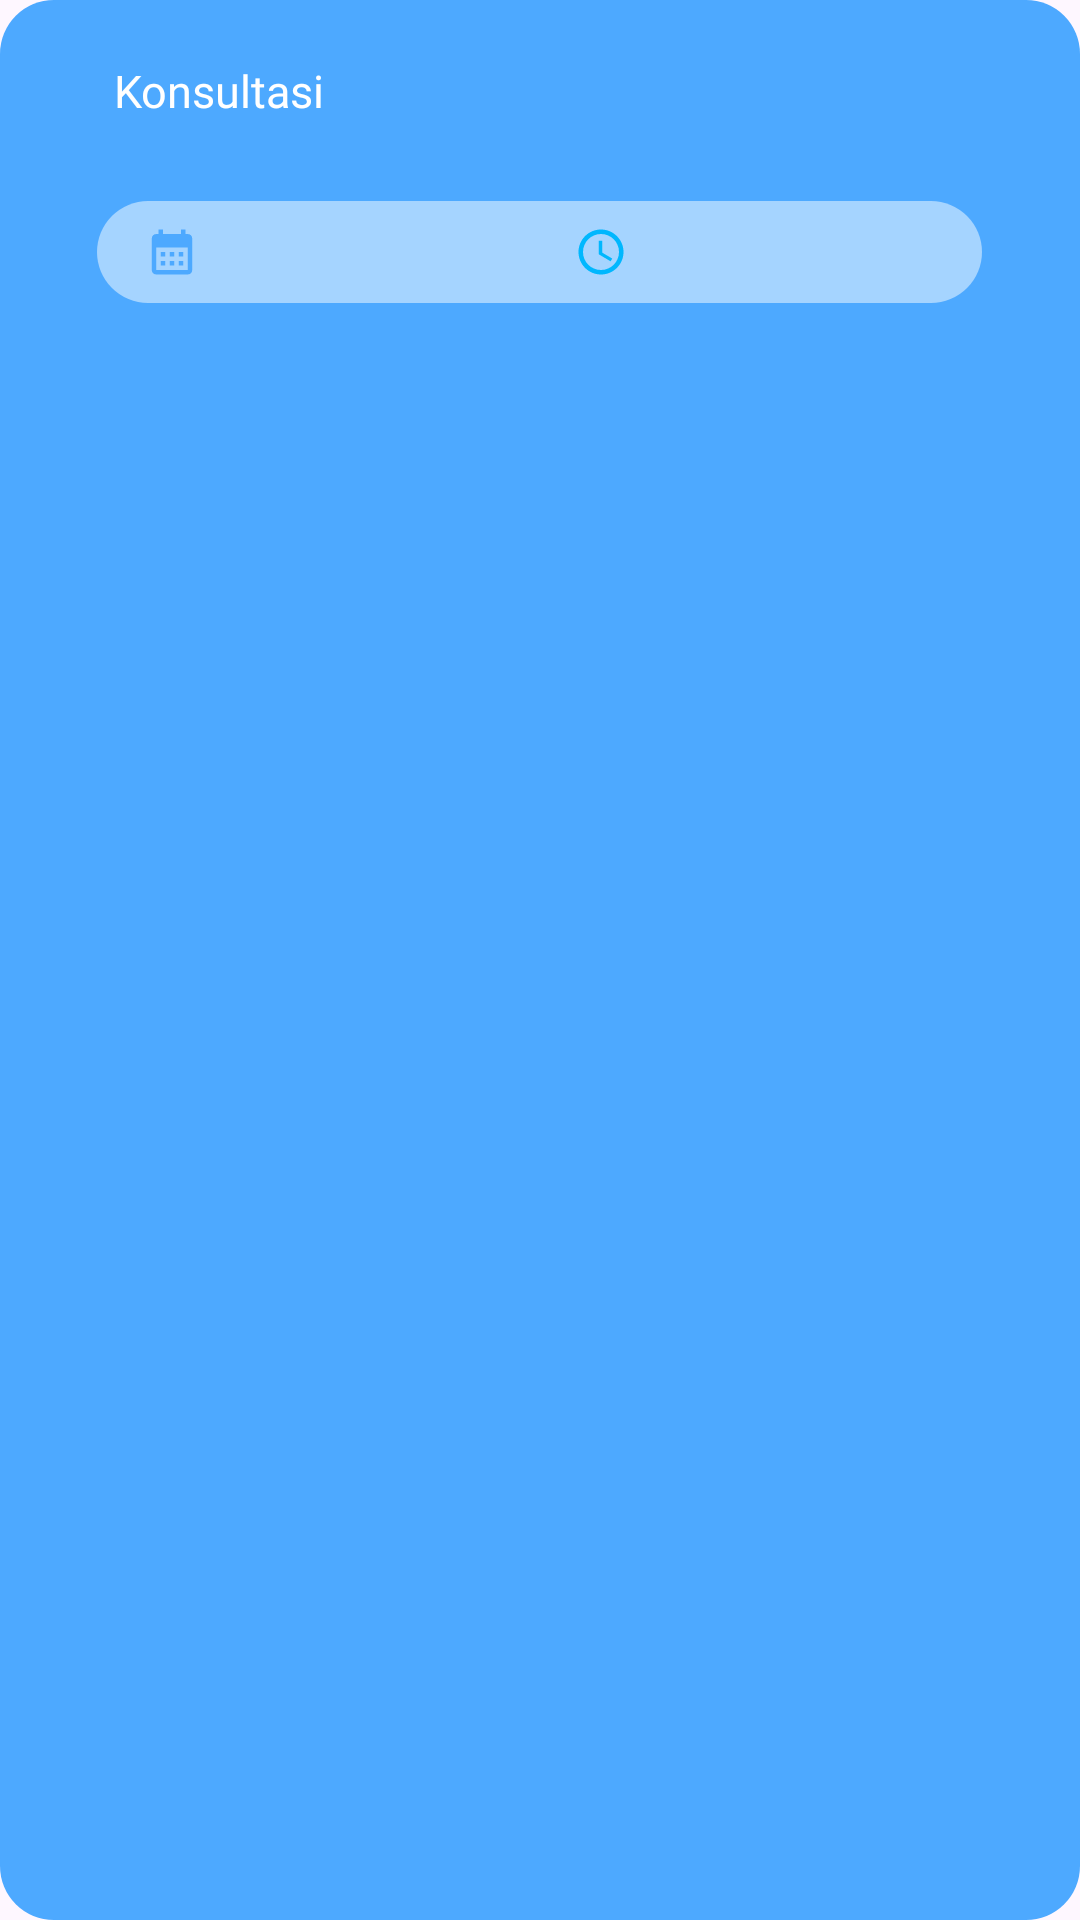

Icon bounding boxes for this 1080w x 1920h phone screenshot, format (x1, y1, x2, y2):
jadwal: (152, 229, 192, 275)
timepicker: (578, 229, 624, 275)
